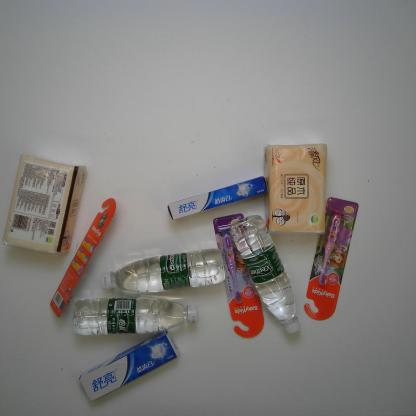Drink: (229, 212, 303, 338), (100, 247, 228, 294), (70, 294, 201, 338)
Personal Hygiene: (46, 195, 118, 321), (76, 328, 182, 406), (304, 194, 360, 322), (213, 211, 265, 341), (164, 174, 269, 222)
Tissue: (1, 154, 88, 257), (262, 141, 330, 237)
